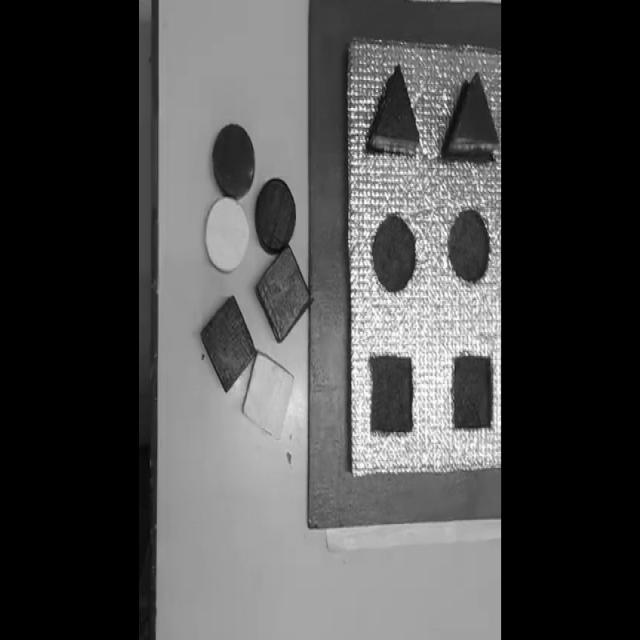bcircle: (254, 178, 296, 254)
bcube: (200, 295, 256, 394)
btriangle: (366, 64, 420, 155)
mtcircle: (371, 213, 418, 294), (447, 208, 492, 286)
mtcube: (369, 354, 415, 437), (451, 354, 494, 433)
rcircle: (212, 124, 255, 200)
rcube: (256, 244, 311, 343)
rtriangle: (442, 73, 501, 161)
wb: (344, 34, 500, 482)
ycircle: (204, 196, 250, 274)
ycube: (242, 350, 295, 441)
